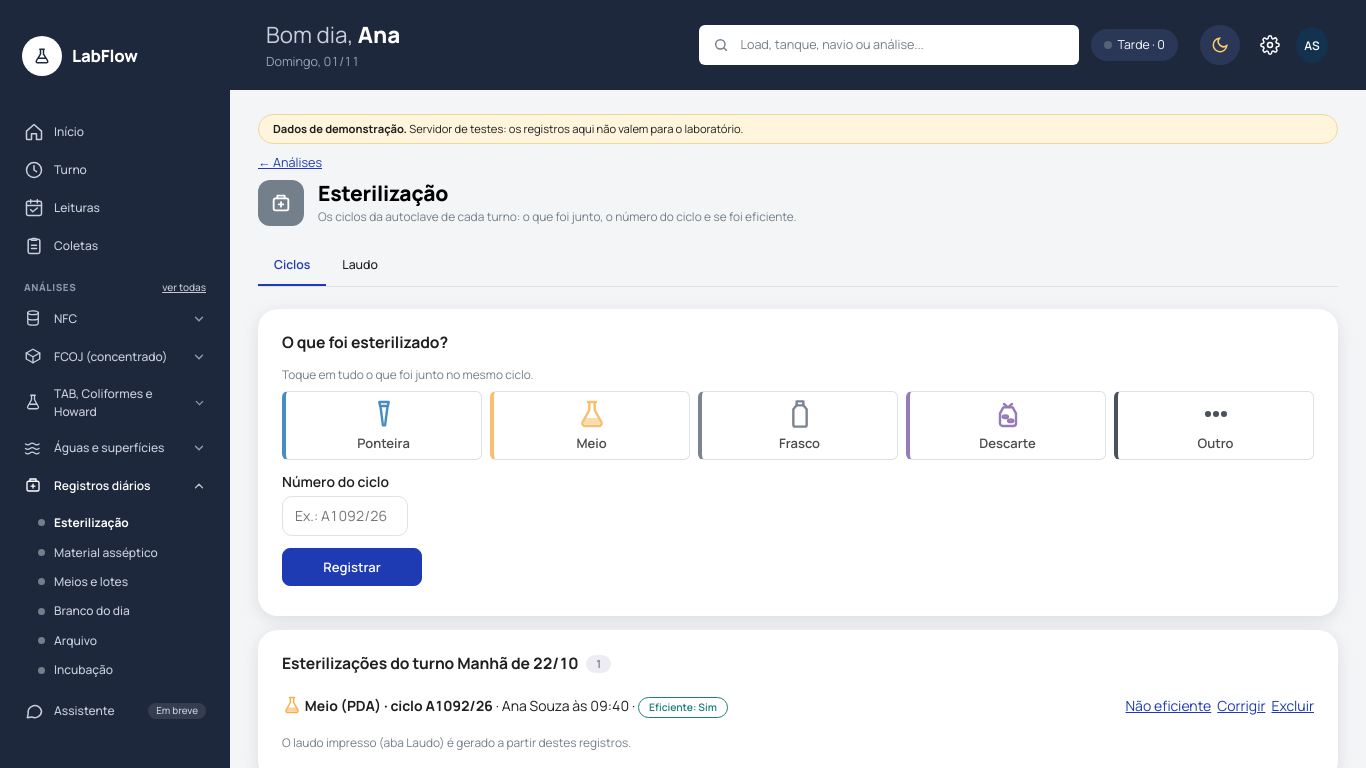
Test: Laudo de esterilização (APP-035) › Não eficiente pede motivo e Voltar para Sim não pede
The image size is (1366, 768).
Expected: the text "Eficiente: Sim" is shown, [638,697,728,718]
Click the button with aria-label "Marcar não eficiente": (1168,706) [1126,690,1211,722]
(page scrolled)
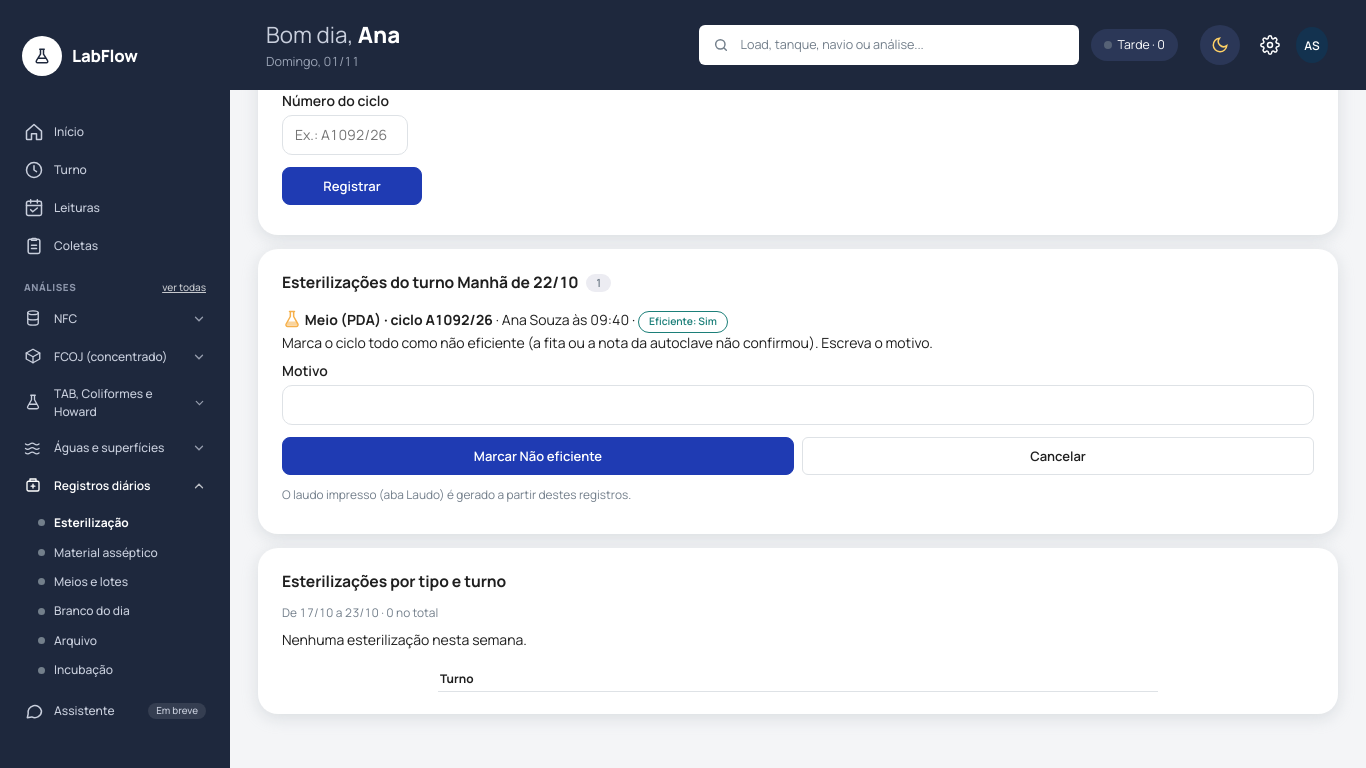
Click the button "Marcar Não eficiente": (538,456) [282,437,794,475]
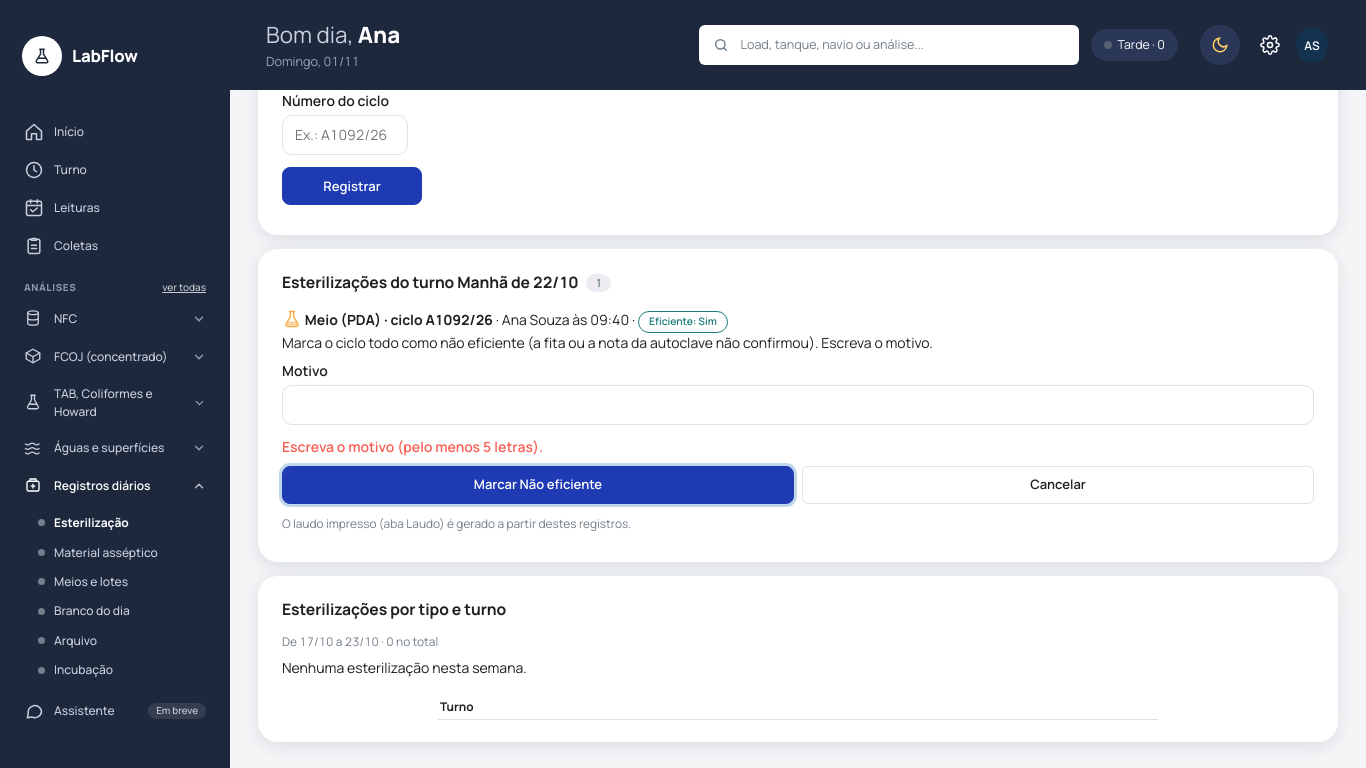
Result: the message shows "Escreva o motivo" at [282,437,543,456]
In the field labelled "Motivo": (798,405) [282,385,1314,425], type "fita não virou"
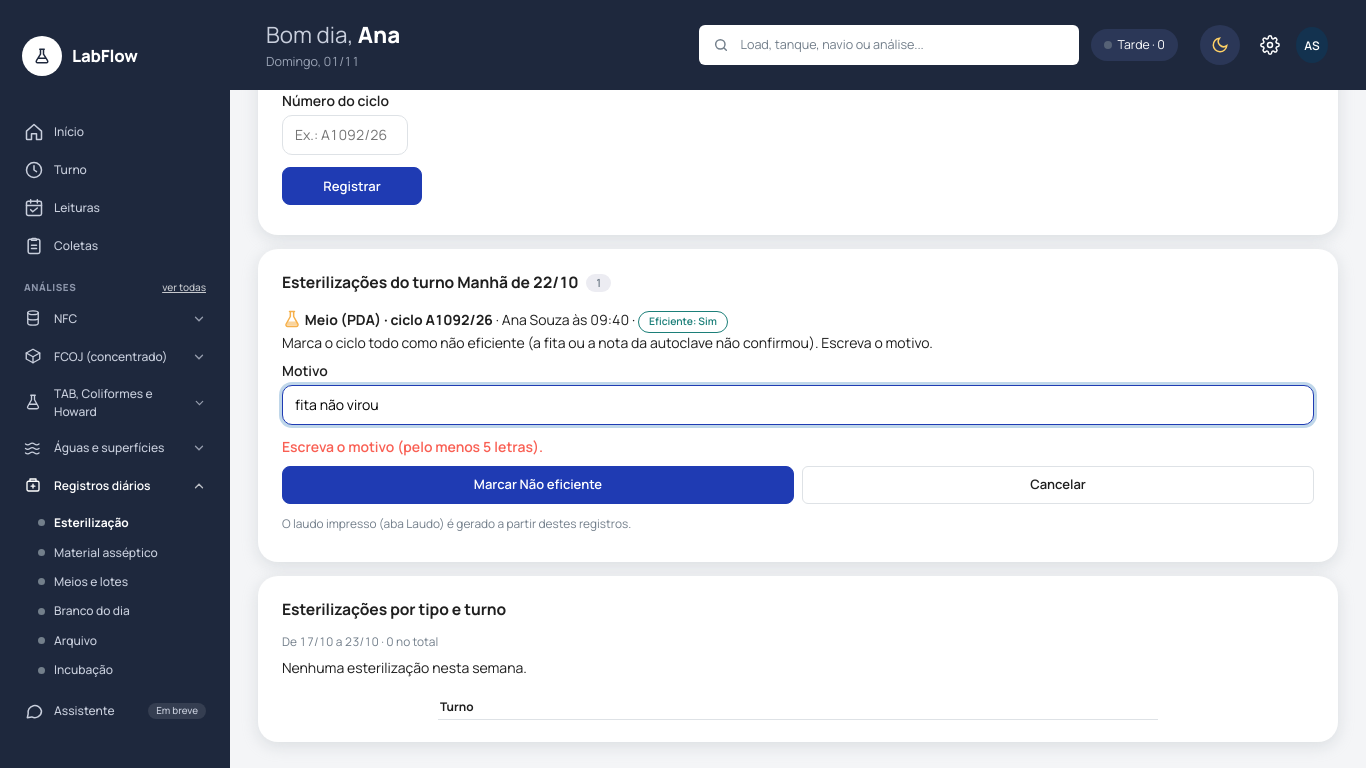
Click the button "Marcar Não eficiente": (538,485) [282,466,794,504]
(page scrolled)
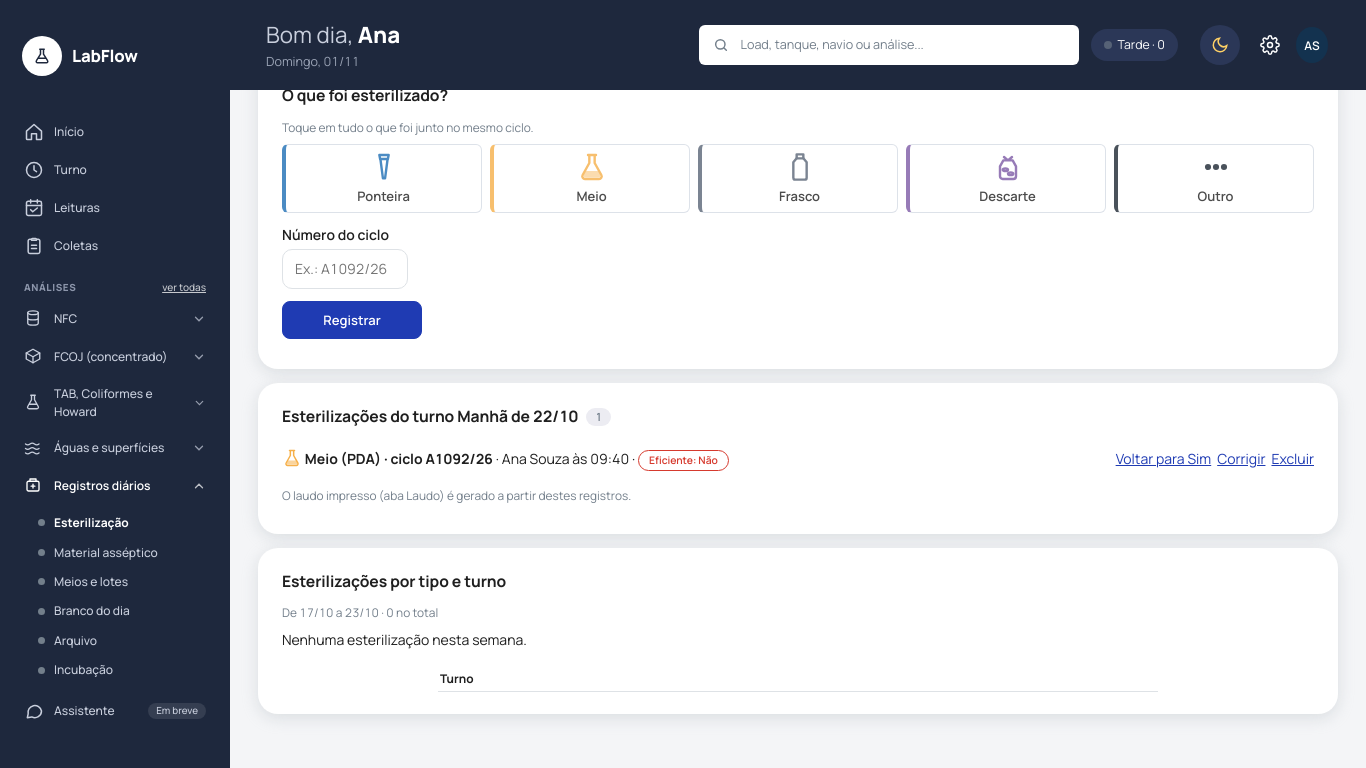
Result: the text "Eficiente: Não" is shown at [638,450,729,471]
Click the button with aria-label "Voltar para eficiente": (1163,459) [1116,443,1211,476]
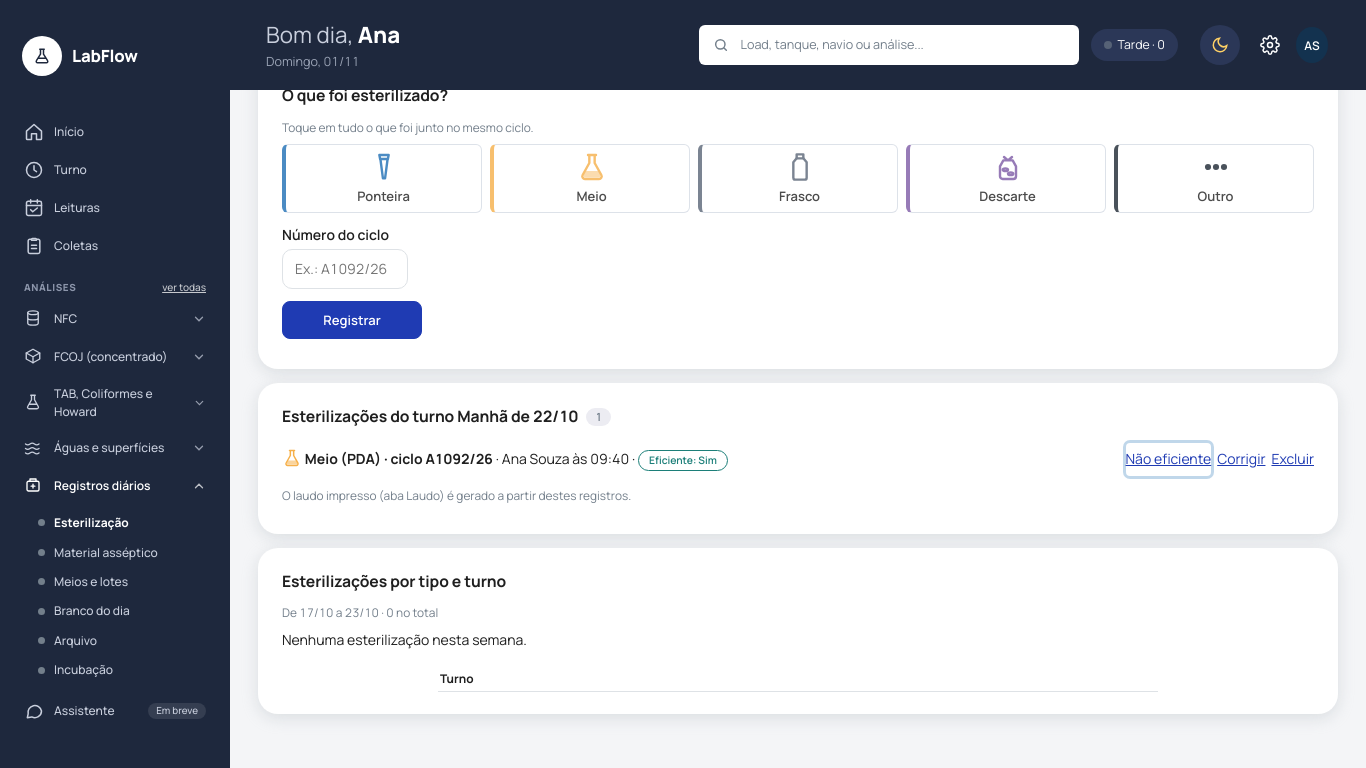
Result: the text "Eficiente: Sim" is shown at [638,450,728,471]
